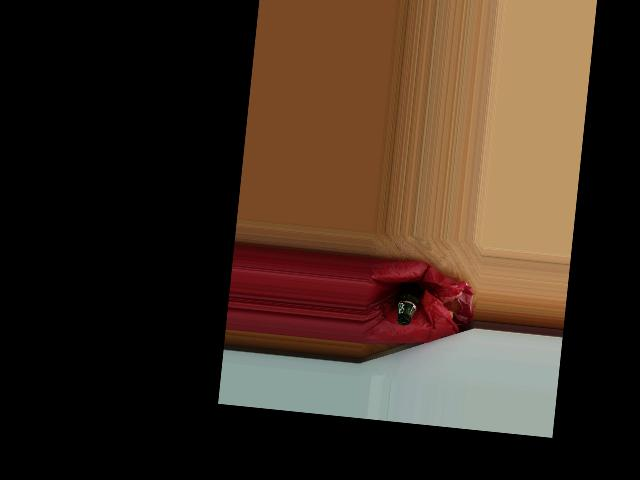beer: (393, 280, 422, 326)
